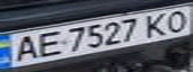2: (103, 19, 127, 47)
5: (84, 21, 109, 51)
7: (118, 16, 145, 43), (63, 25, 87, 53)
A: (6, 33, 42, 63)
E: (30, 28, 66, 60)
K: (139, 11, 175, 38)
O: (160, 7, 193, 34)
